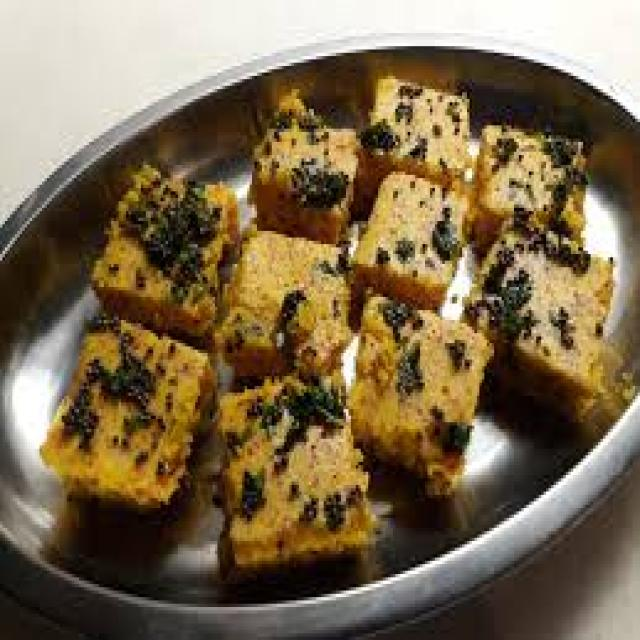DHOKLA: (217, 231, 373, 571), (465, 125, 598, 366), (40, 317, 210, 505), (351, 294, 492, 492), (353, 76, 472, 307), (91, 165, 235, 346), (222, 231, 346, 376), (252, 89, 356, 241)
